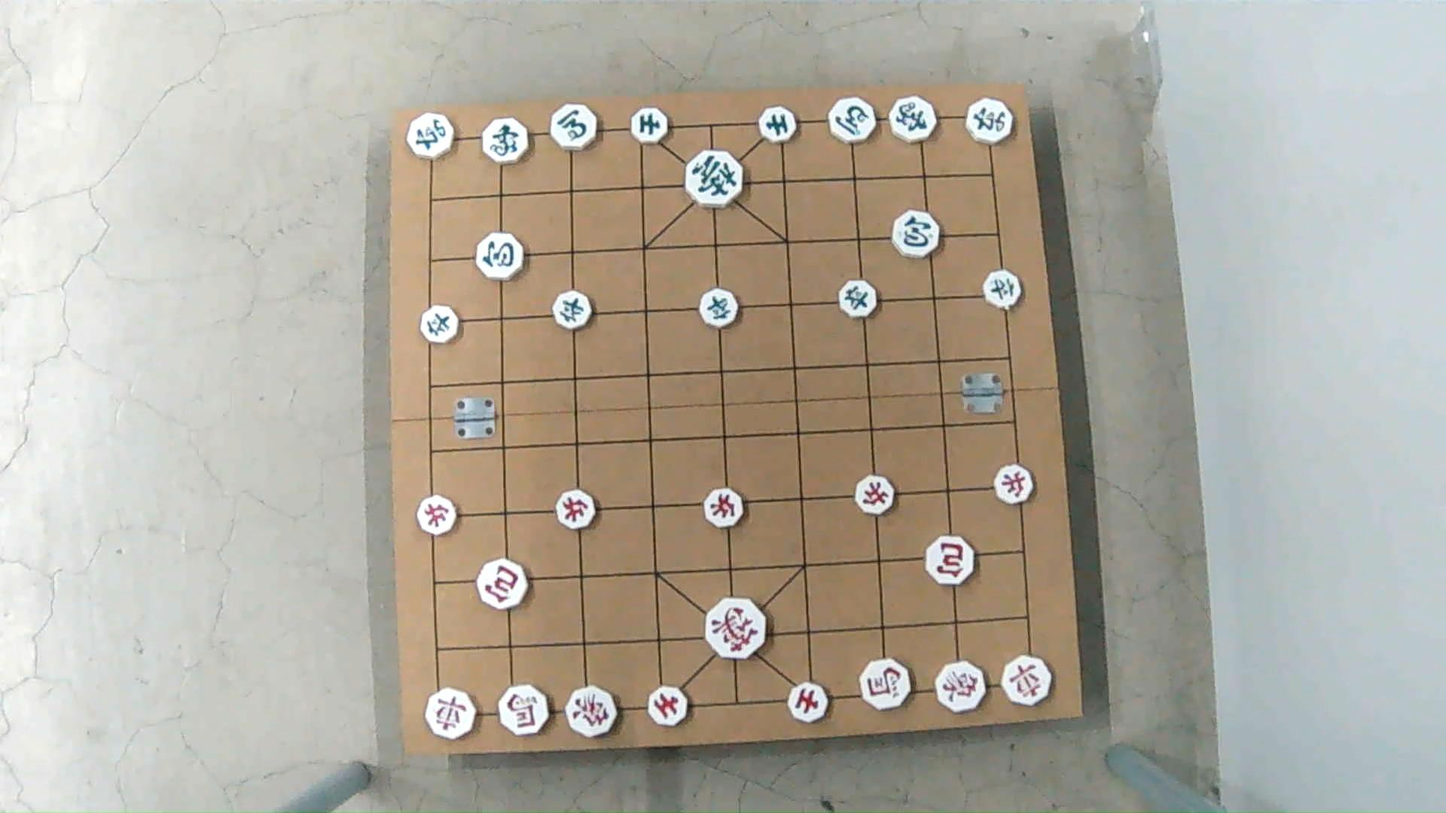cha_green: (965, 96, 1016, 145), (405, 114, 456, 157)
cha_red: (421, 687, 477, 739), (999, 657, 1054, 706)
jol_green: (980, 273, 1026, 306), (550, 294, 593, 329), (695, 291, 738, 325), (836, 282, 880, 315), (419, 308, 461, 342)
jol_red: (704, 490, 748, 527), (853, 479, 898, 515), (993, 467, 1037, 503), (415, 498, 459, 534), (553, 492, 596, 527)
ma_green: (826, 96, 878, 143), (548, 105, 599, 148)
ma_red: (496, 687, 552, 735), (859, 661, 915, 708)
po_green: (474, 234, 526, 277), (890, 211, 941, 254)
po_red: (923, 537, 976, 584), (476, 562, 530, 607)
sa_green: (758, 110, 799, 143), (630, 110, 670, 143)
sa_red: (787, 682, 831, 720), (645, 689, 688, 726)
sang_green: (886, 99, 939, 141), (478, 119, 529, 162)
sang_red: (566, 689, 624, 738), (932, 662, 988, 711)
wang_green: (684, 154, 744, 206)
wang_red: (703, 602, 770, 656)
